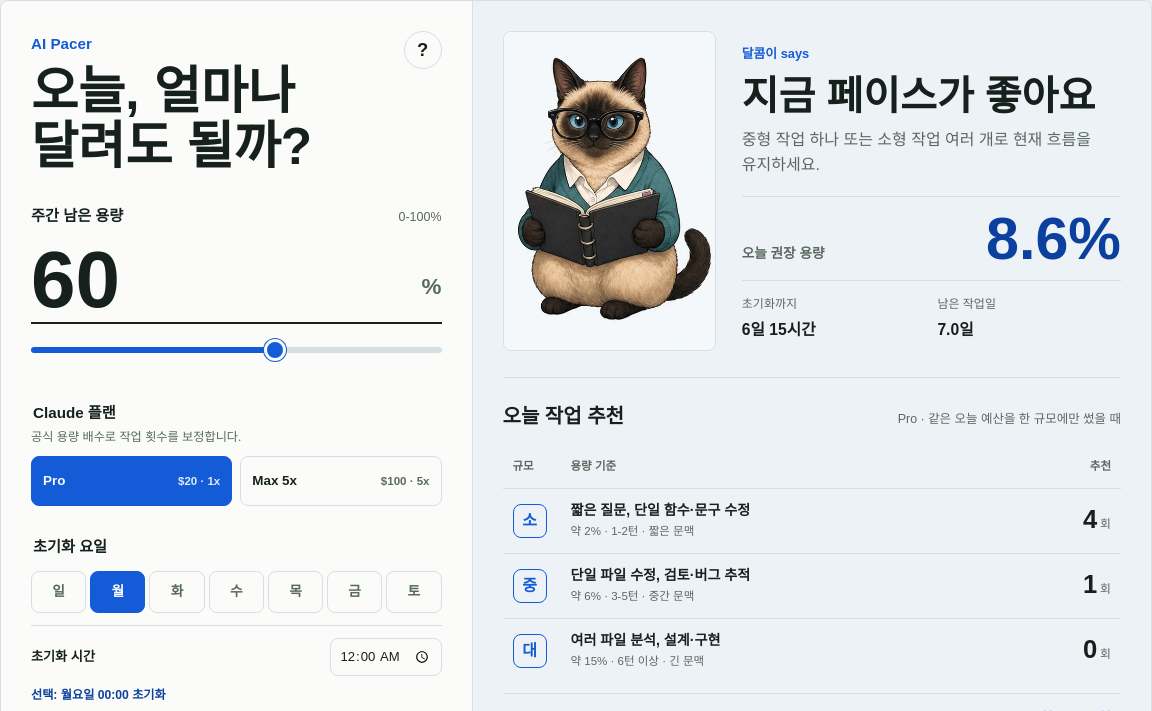
it: AiPacerApp › recalculates against a custom reset time
Replace the text in the time field labelled "초기화 시간" with "12:30": (386, 657) x1=330 y1=638 x2=442 y2=676
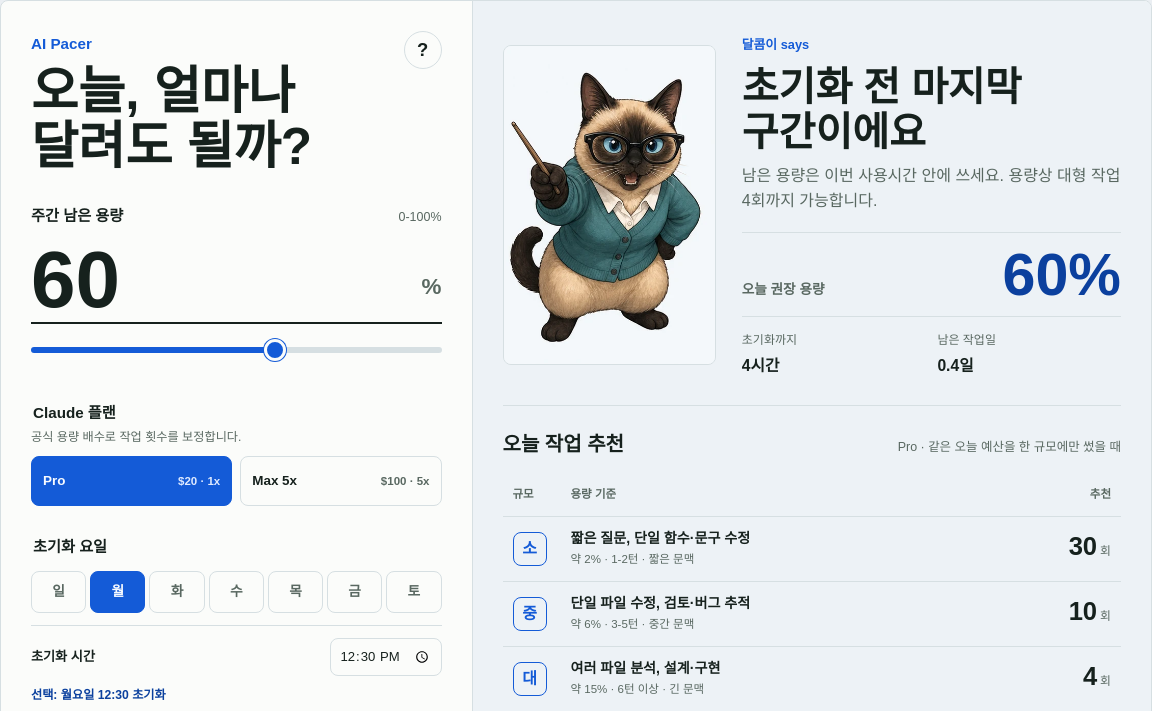
Expected: the text "선택: 월요일 12:30 초기화" is shown, x1=31 y1=688 x2=166 y2=702
Expected: the text "4시간" is shown, x1=742 y1=357 x2=779 y2=374
